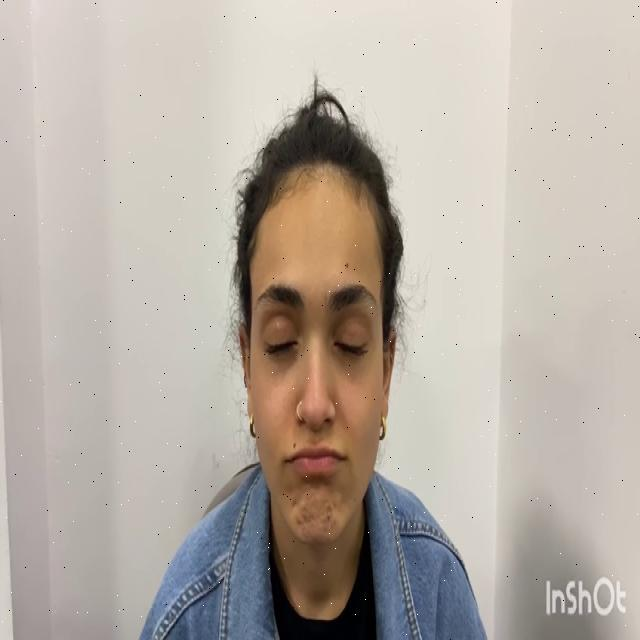natural: (252, 176, 389, 528)
